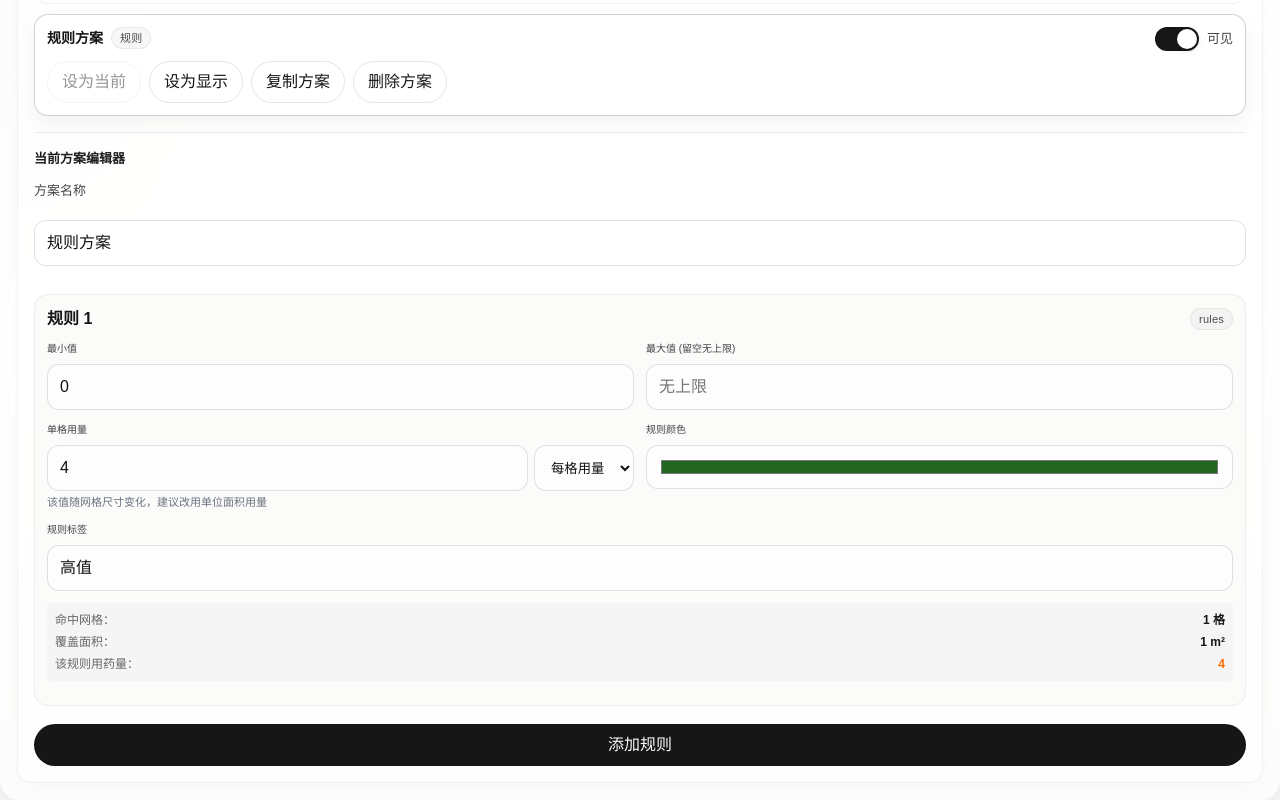
it: RightPanel › application rate mode › keeps the chosen area unit when switching back to per-cell
The image size is (1280, 800).
(page scrolled)
Select "每公顷" in the dropdown named "规则 1 计量方式": (584, 468) [534,445,634,491]
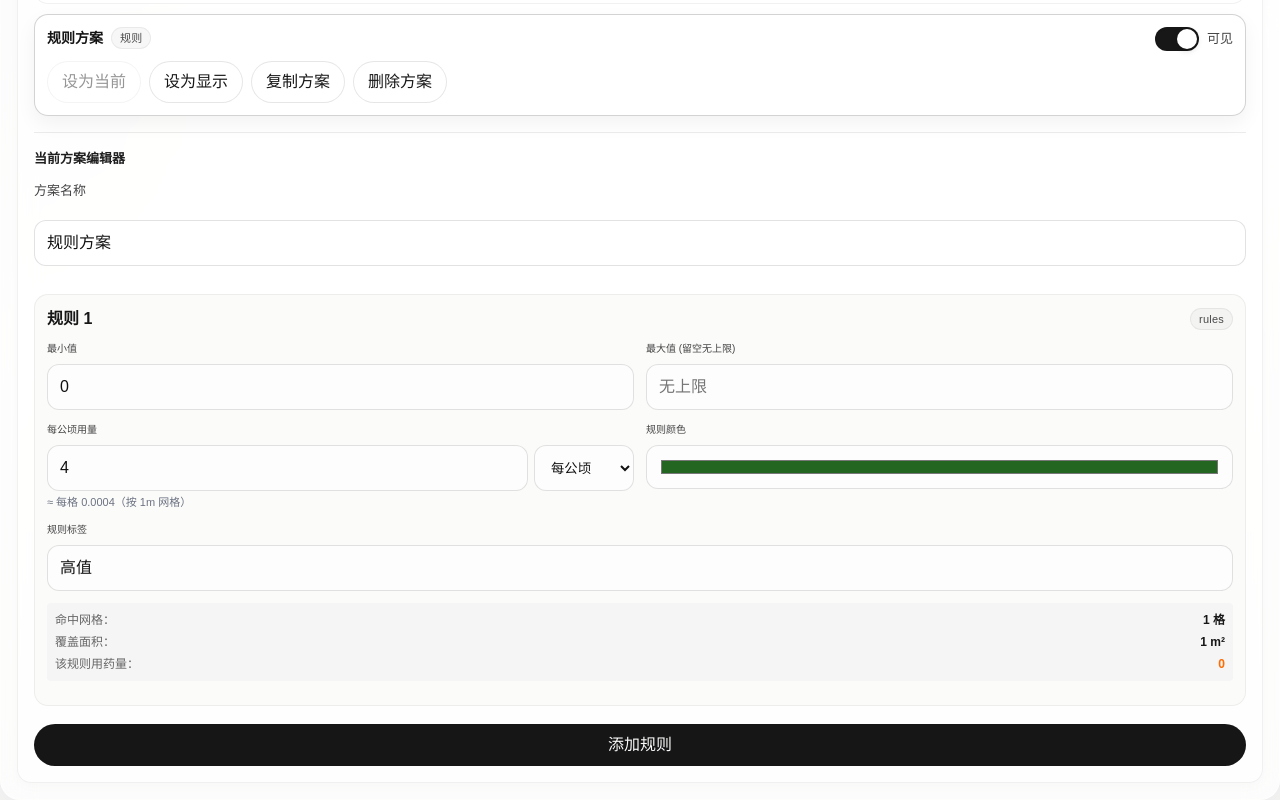
Select "每格用量" in the dropdown named "规则 1 计量方式": (584, 468) [534,445,634,491]
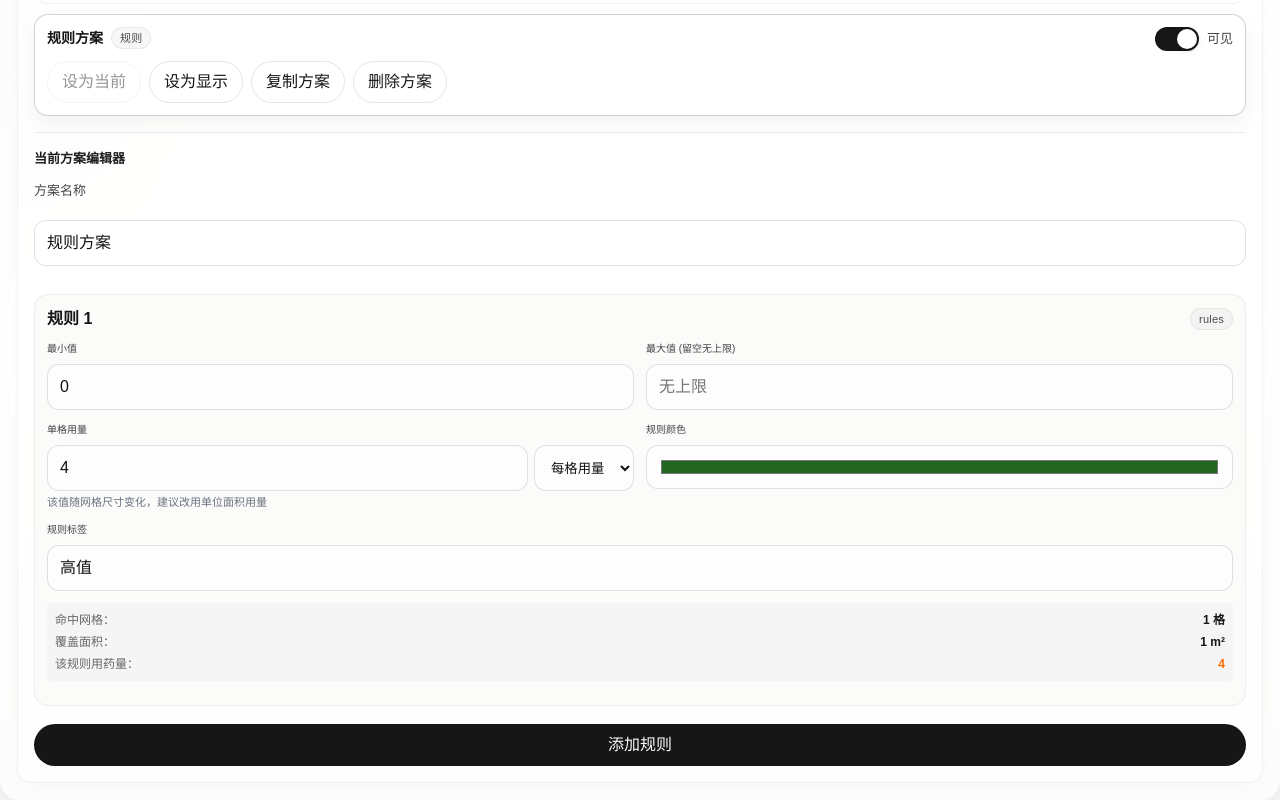
Check: the text "单格用量" is shown, box [47,424,87,435]
